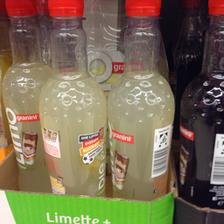Soda: (37, 0, 108, 196), (107, 0, 175, 198), (178, 1, 222, 210), (0, 0, 46, 191)
